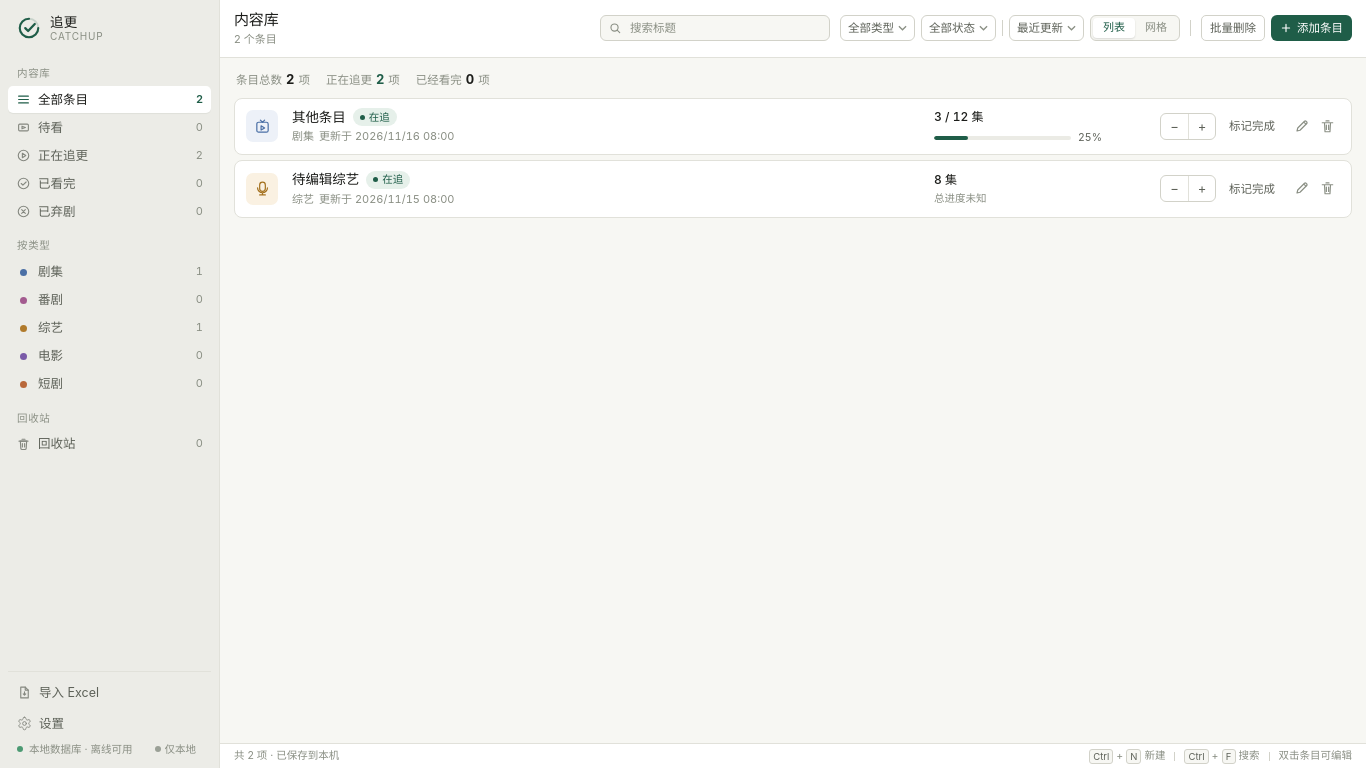
it: 条目管理 › 编辑时回填全部字段，成功后按 updatedAt 重排并同步摘要
expect the element "待编辑综艺" is shown: met, box [234, 160, 1352, 218]
Click the button named "编辑《待编辑综艺》" at (1301, 189), box [1288, 176, 1314, 202]
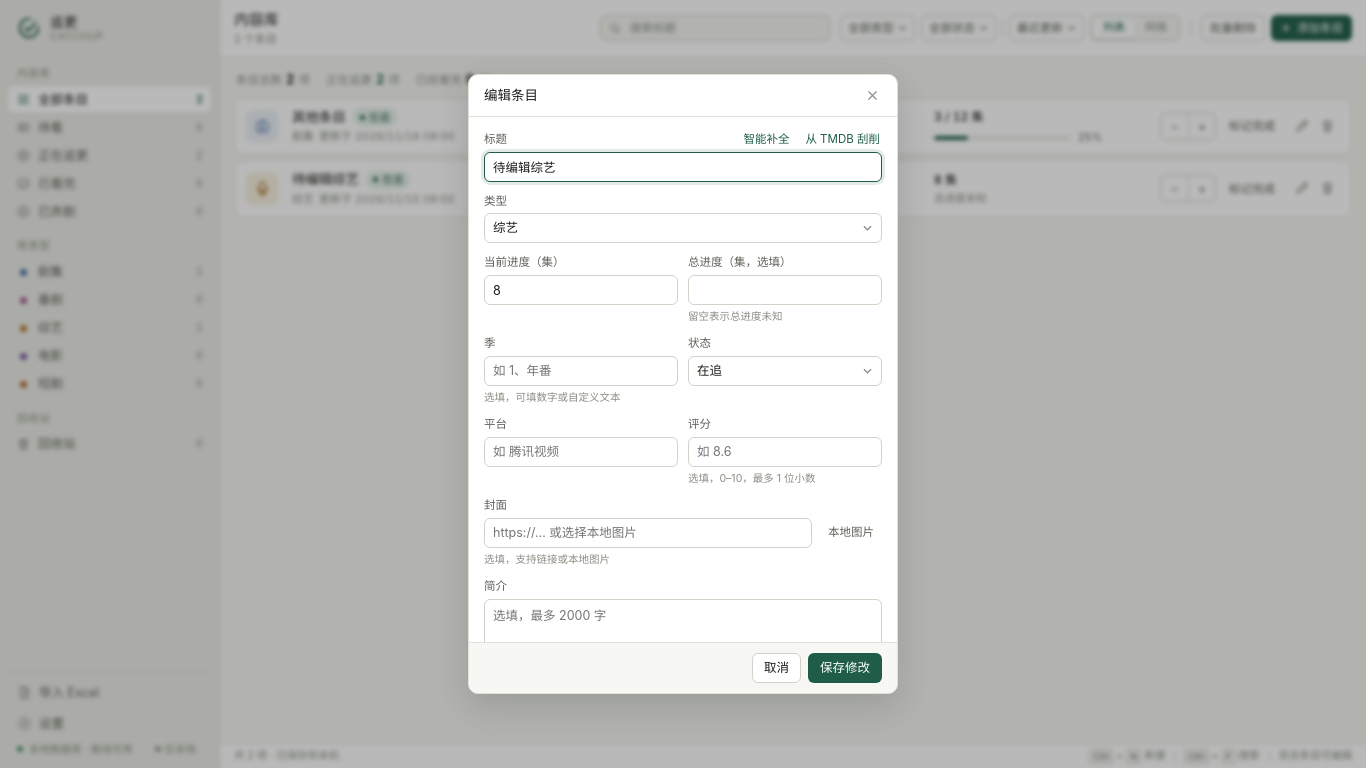
expect the field labelled "标题" holds "待编辑综艺": met
expect the dropdown labelled "类型" shows "综艺": met, box [484, 213, 882, 243]
expect the number field labelled "当前进度（集）" holds "8": met, box [484, 275, 678, 305]
Replace the text in the field labelled "标题" with "  编辑后的剧集  " at (683, 167), box [484, 152, 882, 182]
Select "剧集" in the dropdown labelled "类型" at (683, 228), box [484, 213, 882, 243]
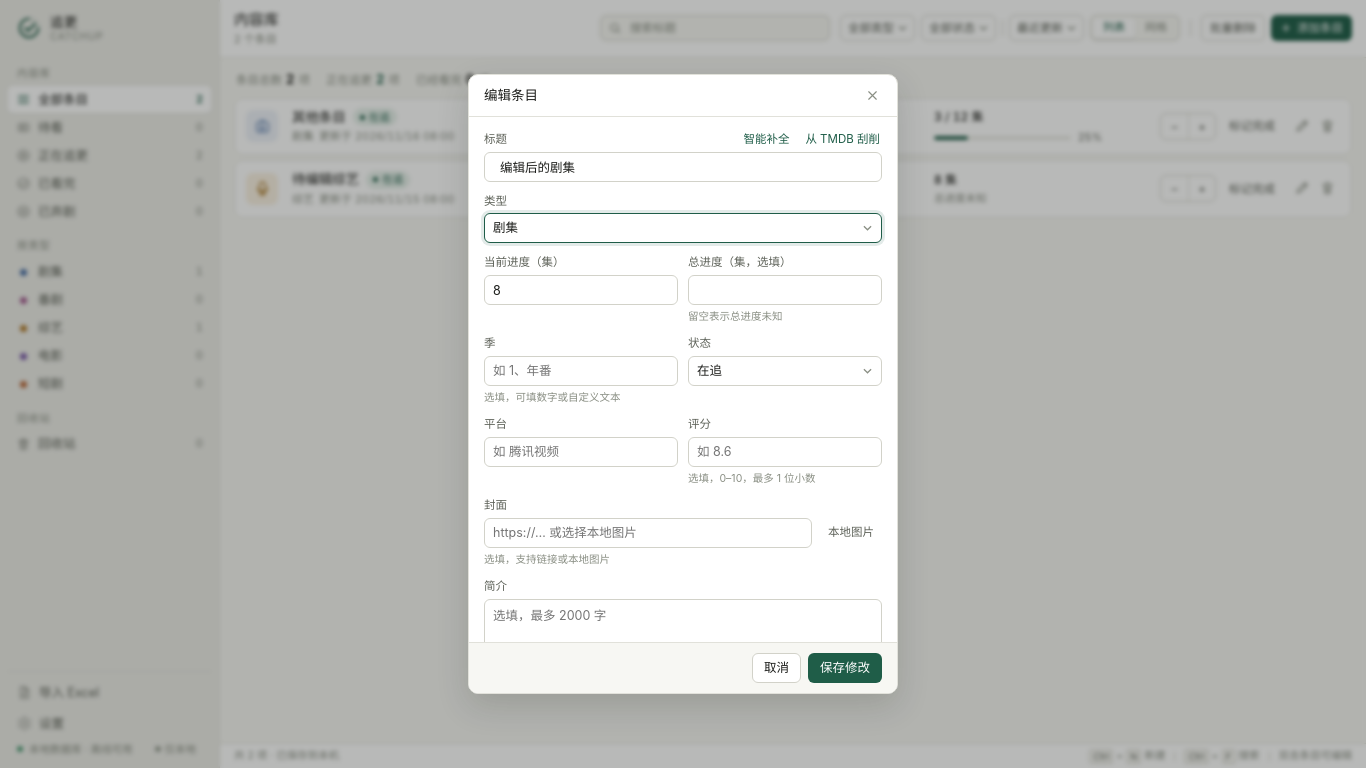
Replace the text in the number field labelled "当前进度（集）" with "4" at (581, 290), box [484, 275, 678, 305]
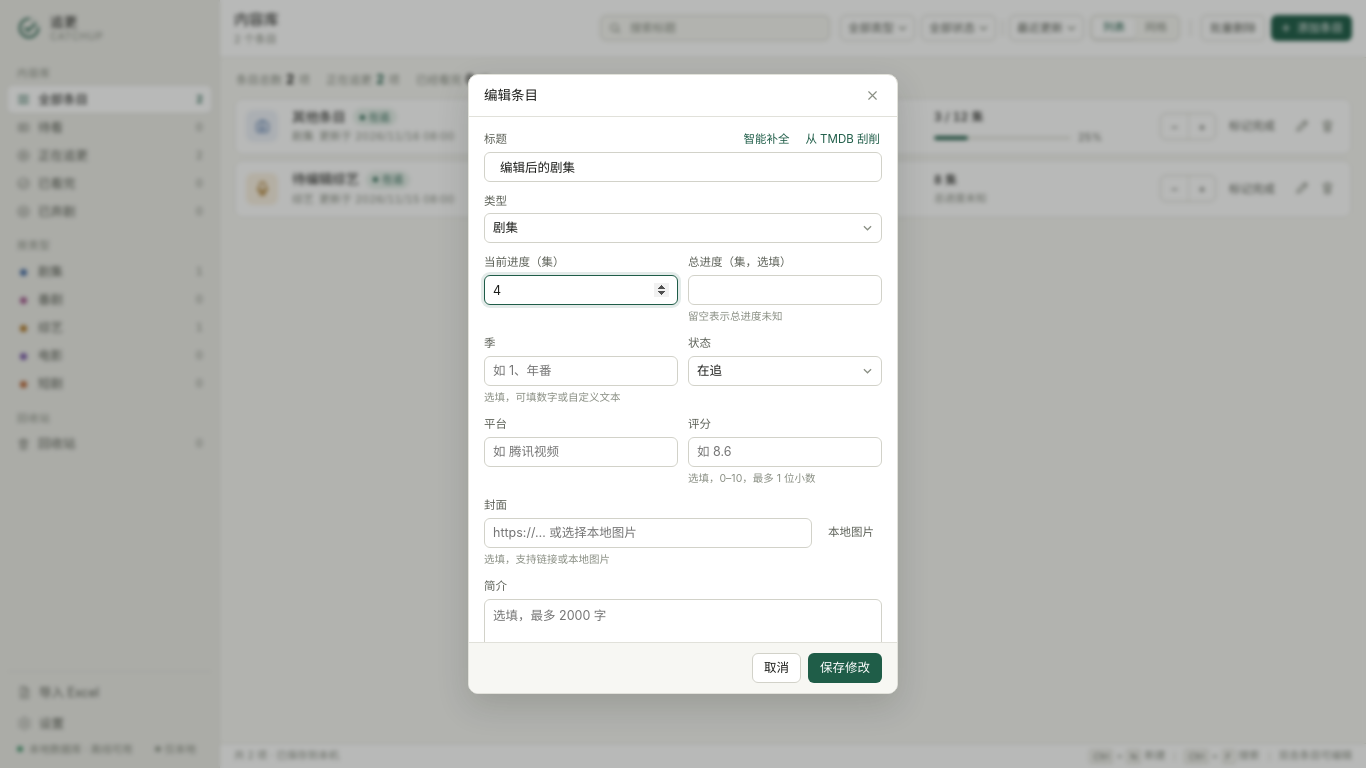
Type "10" into the number field labelled "总进度（集，选填）" at (785, 290), box [688, 275, 882, 305]
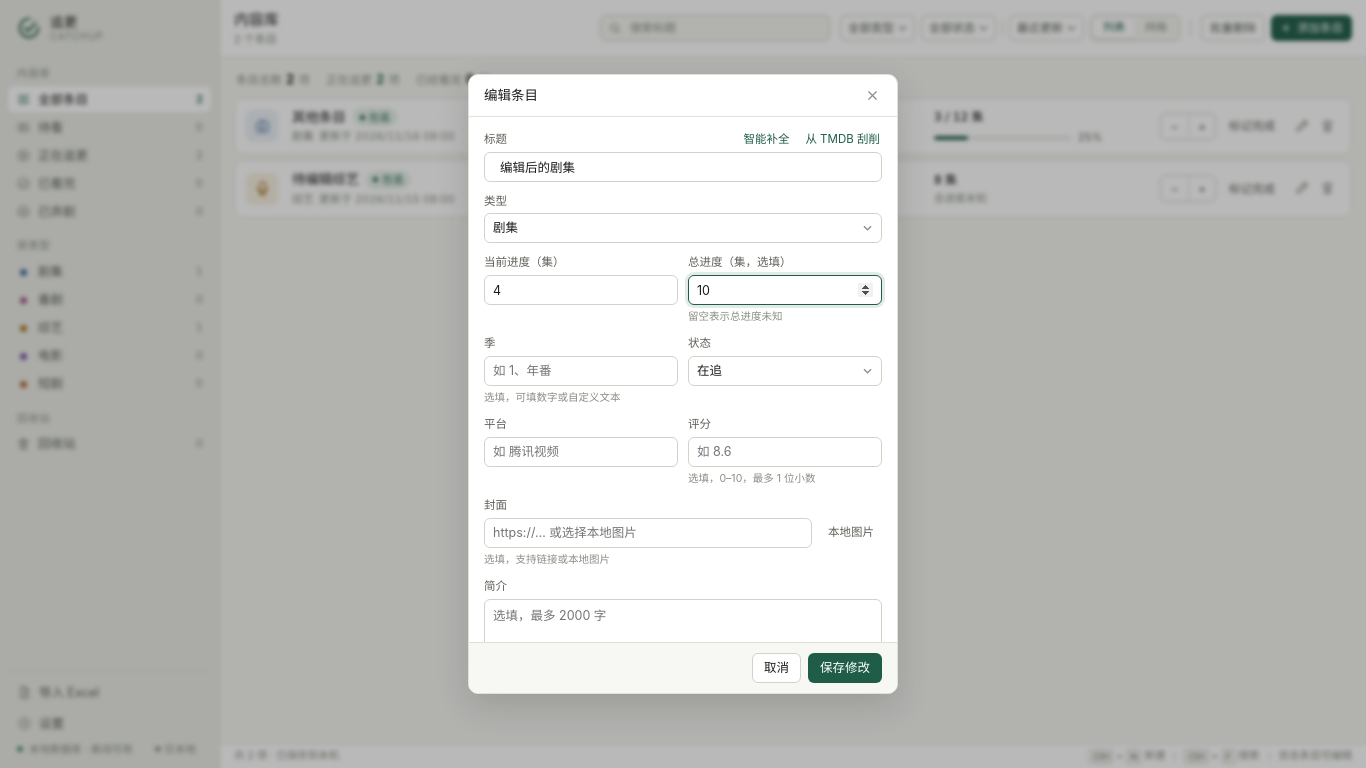
Select "已完成" in the dropdown labelled "状态" at (785, 371), box [688, 356, 882, 386]
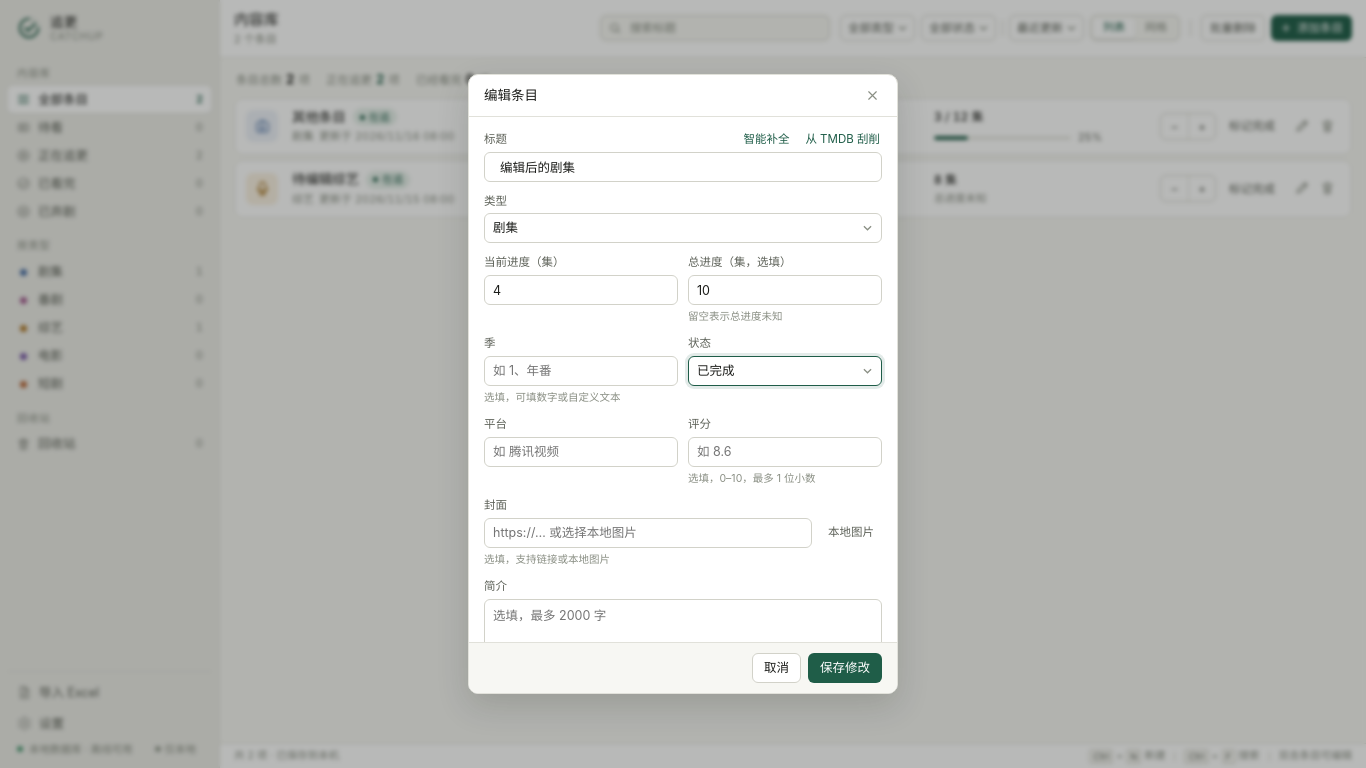
Click the button "保存修改" at (845, 668), box [808, 653, 882, 683]
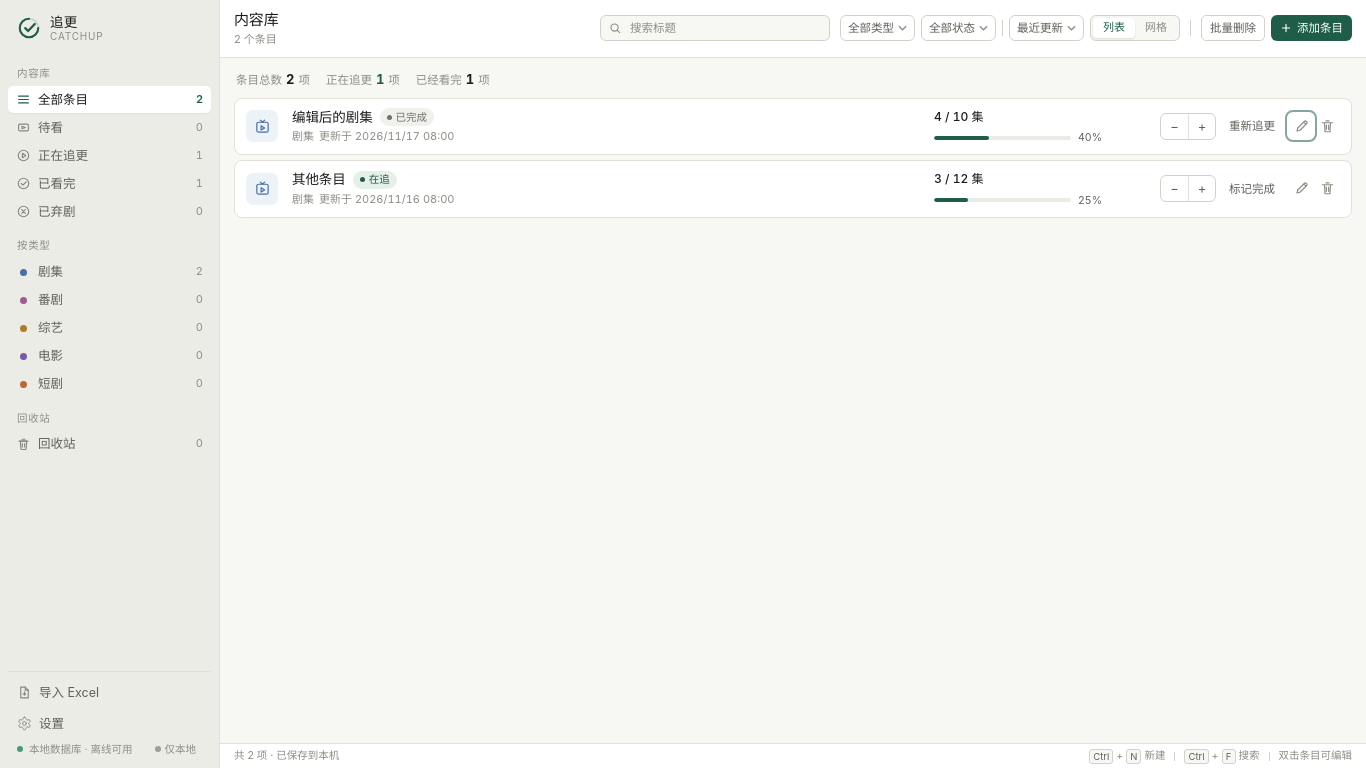
expect the element "编辑后的剧集" is shown: met, box [234, 98, 1352, 155]
expect the dialog is gone: met
